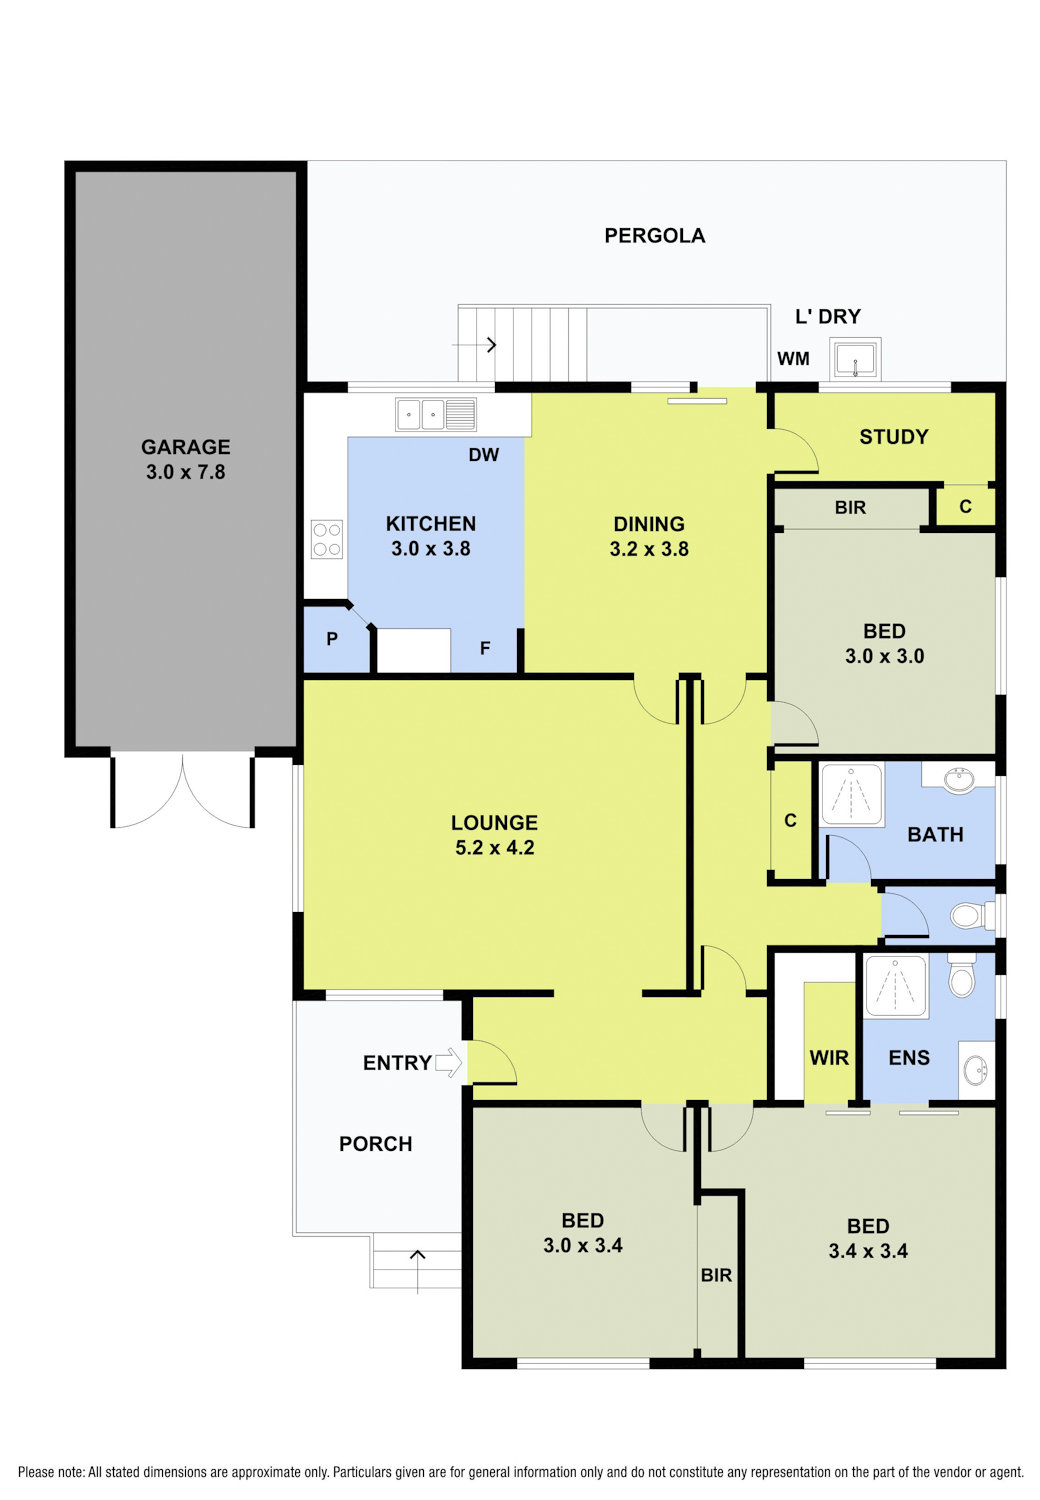door: (107, 761, 258, 839), (698, 938, 750, 989), (704, 1110, 756, 1161), (887, 889, 939, 940), (637, 1106, 689, 1157), (629, 680, 682, 731), (696, 679, 748, 729), (823, 828, 875, 878), (474, 1040, 526, 1090), (777, 698, 822, 749), (777, 427, 822, 478)
room: (296, 382, 527, 680), (811, 755, 1008, 888), (856, 946, 1007, 1108), (877, 879, 1006, 952)
window: (291, 764, 304, 913), (803, 1356, 939, 1370), (517, 1356, 652, 1370), (818, 381, 952, 394), (346, 382, 497, 392), (994, 577, 1007, 695), (324, 989, 445, 1001), (996, 775, 1006, 864), (631, 382, 690, 394), (996, 894, 1007, 938), (996, 975, 1006, 1019)
